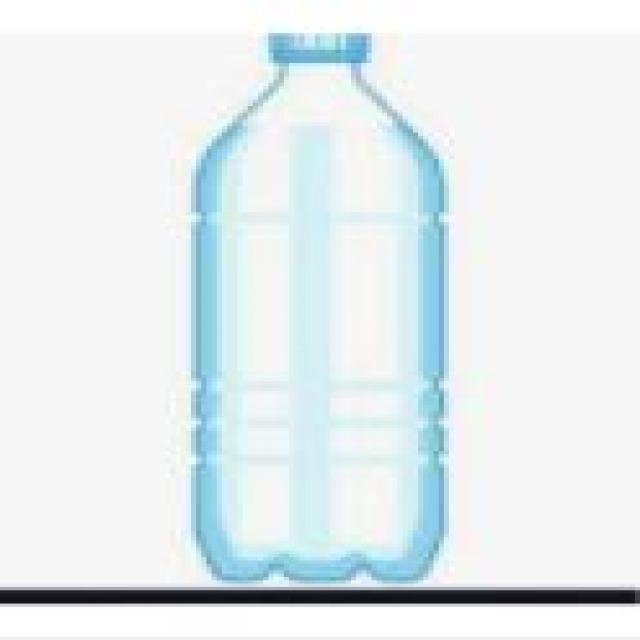bottle: (139, 20, 458, 599)
